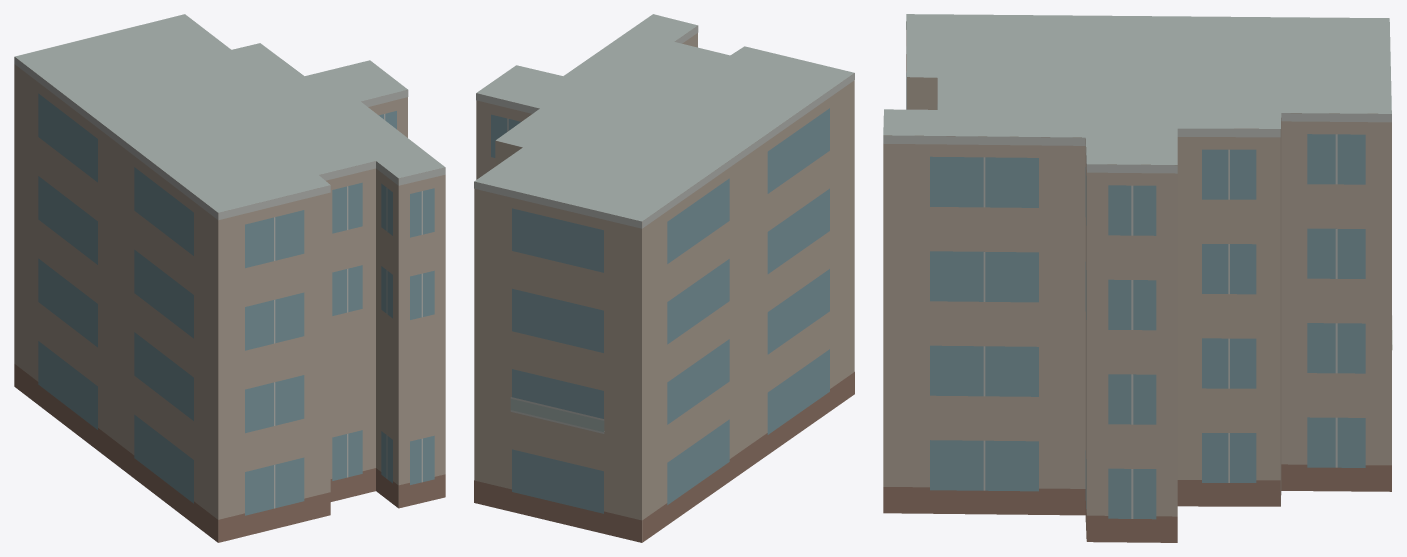
Rendered from survey-upis-32978129.glb.
3 views of the same model, side by side, from view 1: azimuth 30°, elevation 25°; view 2: azimuth 150°, elevation 25°; view 3: azimuth 270°, elevation 25° (orthographic). The views are drawn at different scales.
Parts seen in each view (by area): view 1: survey-upis-32978129.tmp; view 2: survey-upis-32978129.tmp; view 3: survey-upis-32978129.tmp.
Boxes of the visible parts, x1,y1,x2,y2 form: survey-upis-32978129.tmp: (14,14,445,542); survey-upis-32978129.tmp: (474,14,854,542); survey-upis-32978129.tmp: (883,14,1392,542).
Size of the model in its own units: 9.35 by 10.89 by 13.32.
